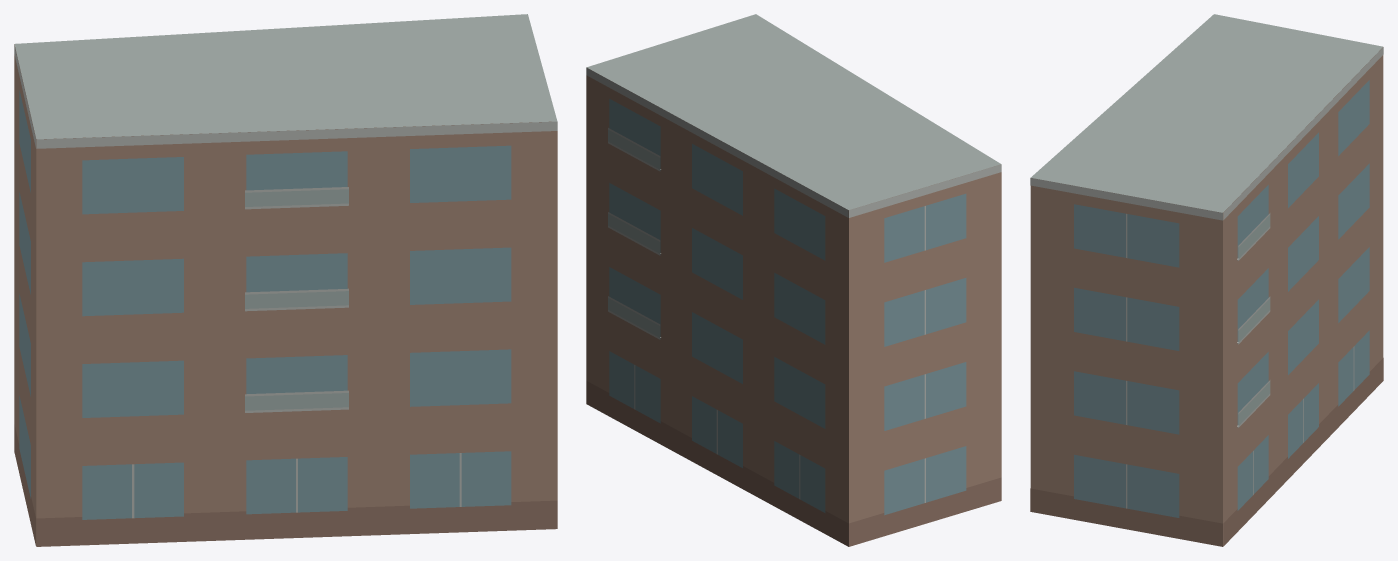
The model's file is survey-upis-32494021.glb.
The picture shows the model from 3 angles, left to right: view 1: azimuth 30°, elevation 25°; view 2: azimuth 150°, elevation 25°; view 3: azimuth 270°, elevation 25°; orthographic projection. The views are drawn at different scales.
Visible parts, largest first — view 1: survey-upis-32494021.tmp; view 2: survey-upis-32494021.tmp; view 3: survey-upis-32494021.tmp.
Boxes of the visible parts, left/top/right/bottom form: survey-upis-32494021.tmp: left=14, top=14, right=557, bottom=546; survey-upis-32494021.tmp: left=586, top=14, right=1001, bottom=546; survey-upis-32494021.tmp: left=1030, top=14, right=1383, bottom=546.
Size of the model in its own units: 13.42 by 10.5 by 10.07.
